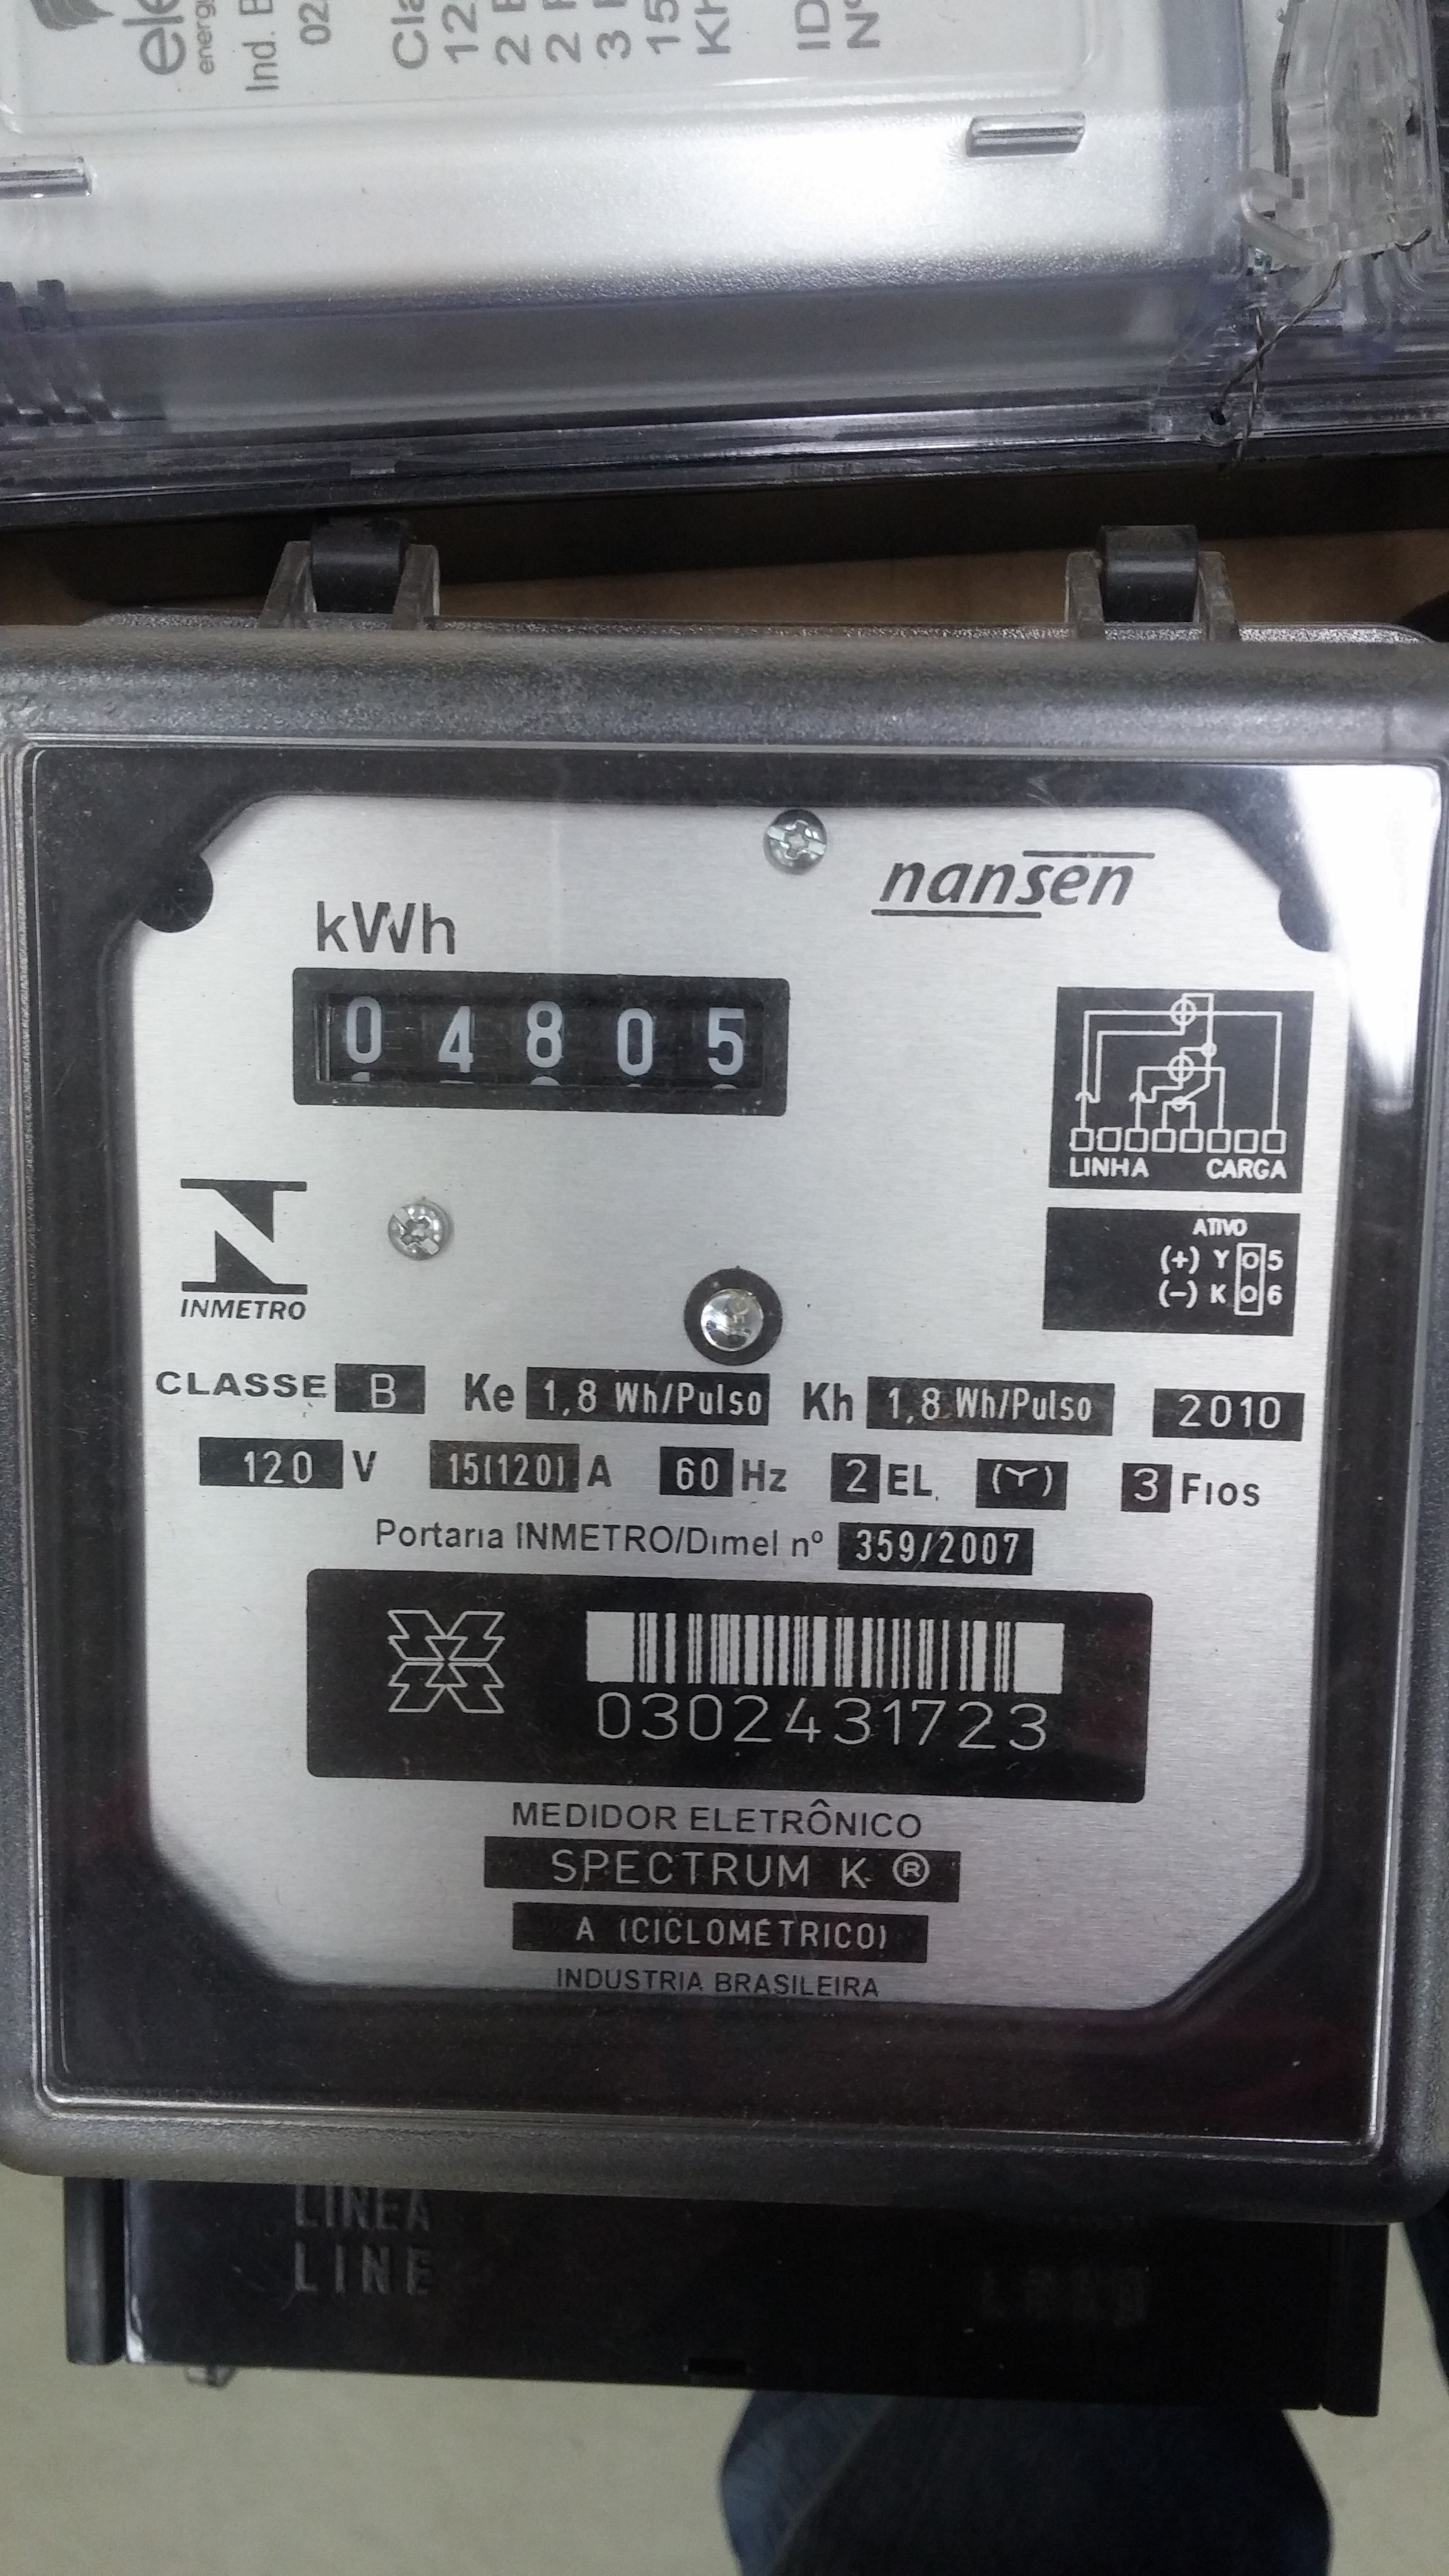counter3: (272, 945, 828, 1143)
